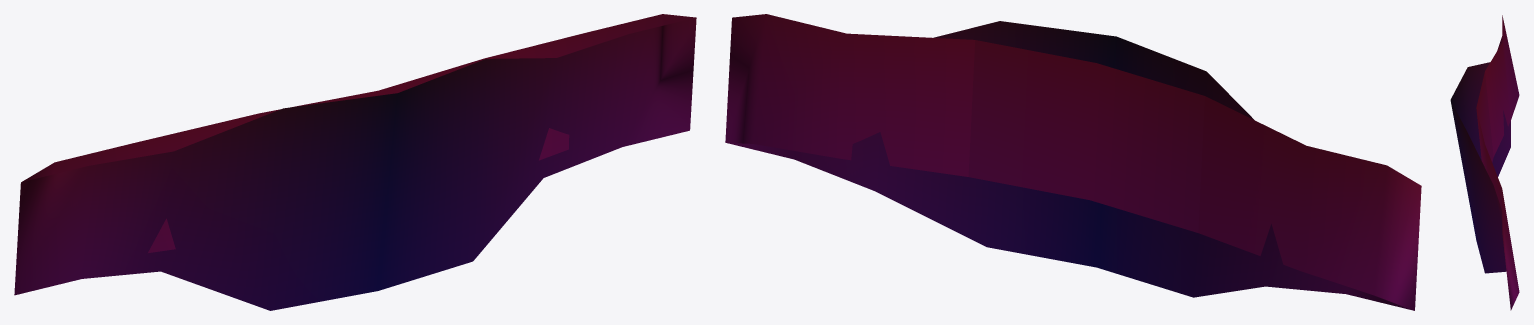
File: model_2CCC.glb
3 renders of one model, left to right at view 1: azimuth 30°, elevation 25°; view 2: azimuth 150°, elevation 25°; view 3: azimuth 270°, elevation 25°, orthographic. The views are drawn at different scales.
Visible parts, largest first — view 1: part; view 2: part; view 3: part.
Boxes of the visible parts, left/top/right/bottom form: part: left=14, top=14, right=696, bottom=310; part: left=725, top=14, right=1421, bottom=310; part: left=1450, top=15, right=1519, bottom=310.
Bounding box in the file's own units: 7740 × 2322 × 1032.
